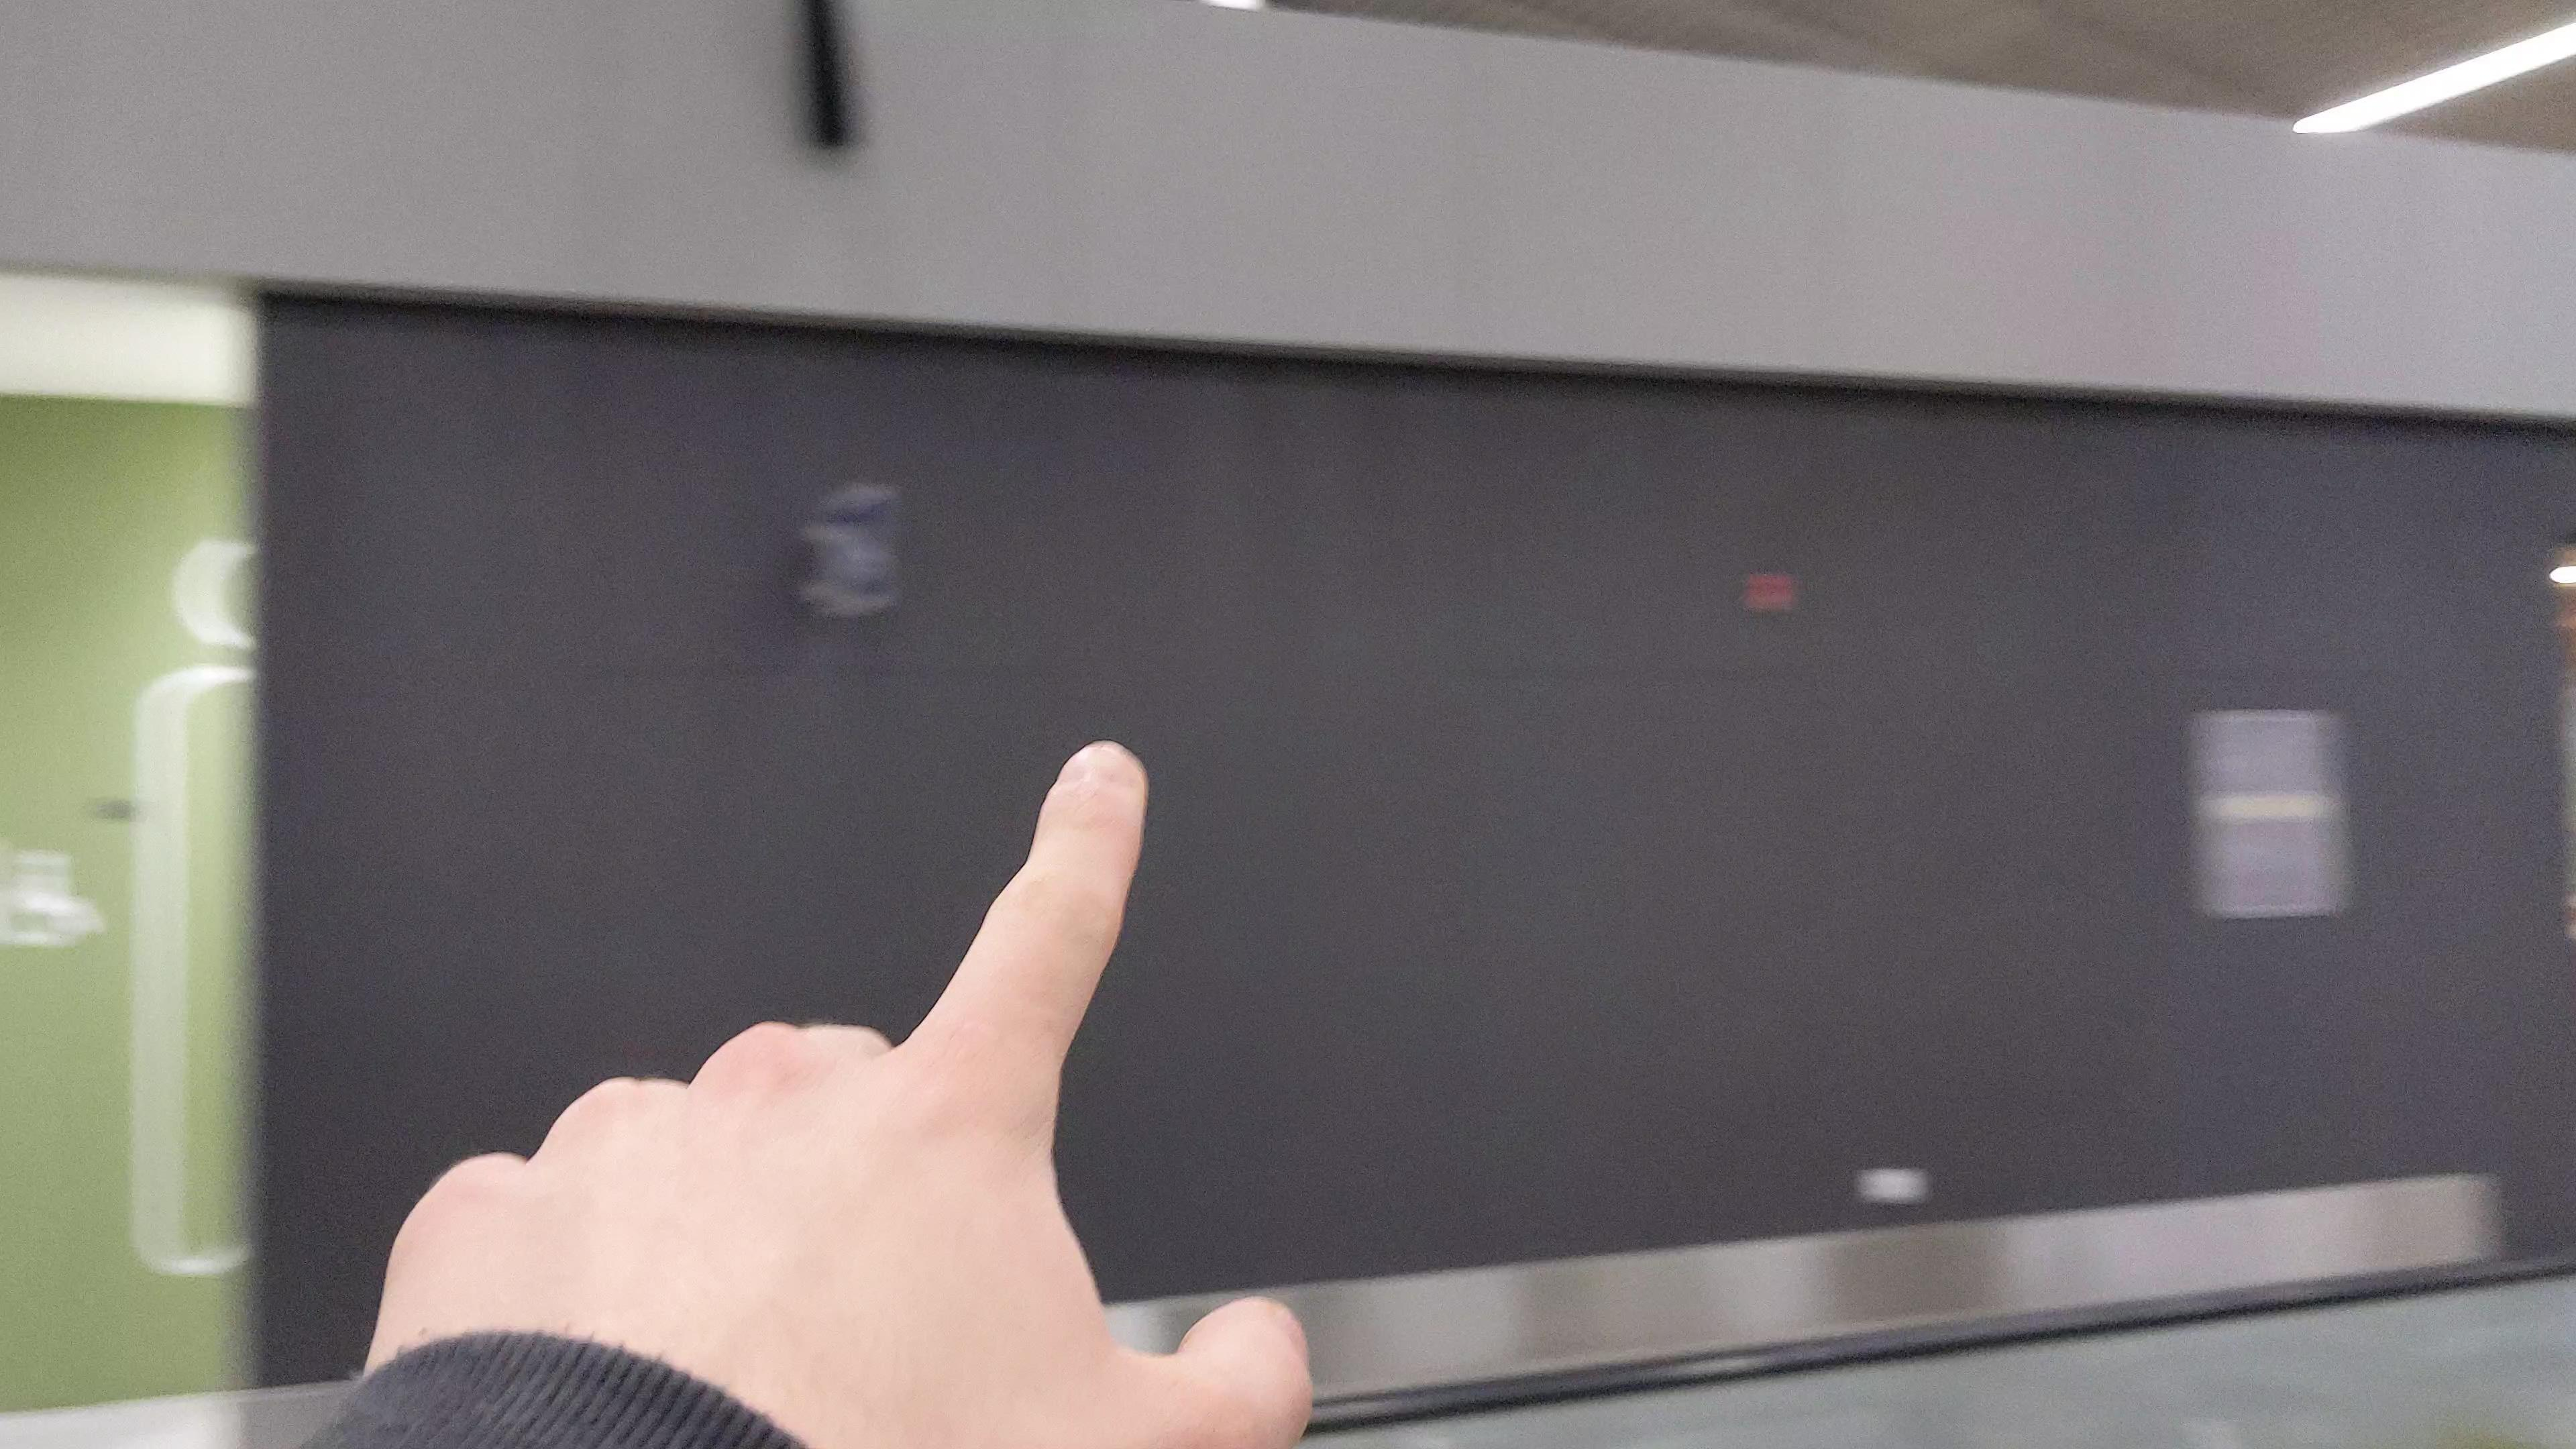handicapped symbol: (0, 857, 95, 955)
